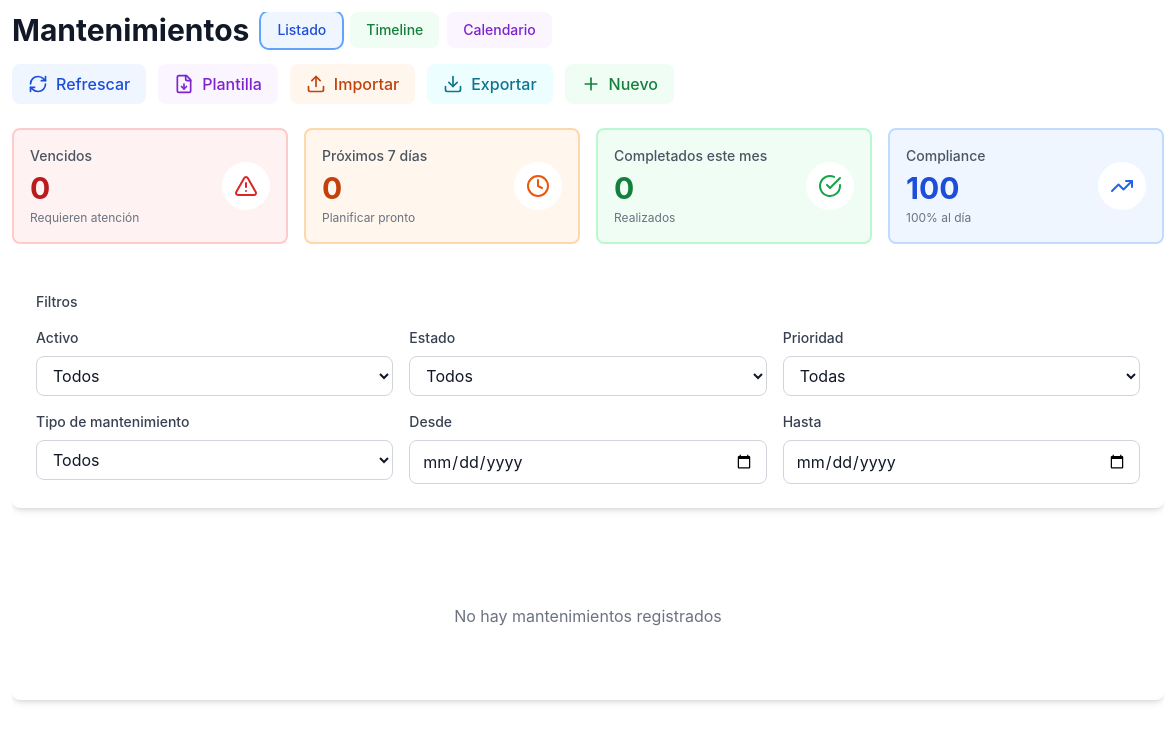
AssetMaintenancePage › switches to timeline view
The width and height of the screenshot is (1164, 732).
Click the button "Timeline". click: [395, 30]
box: [350,12,439,48]
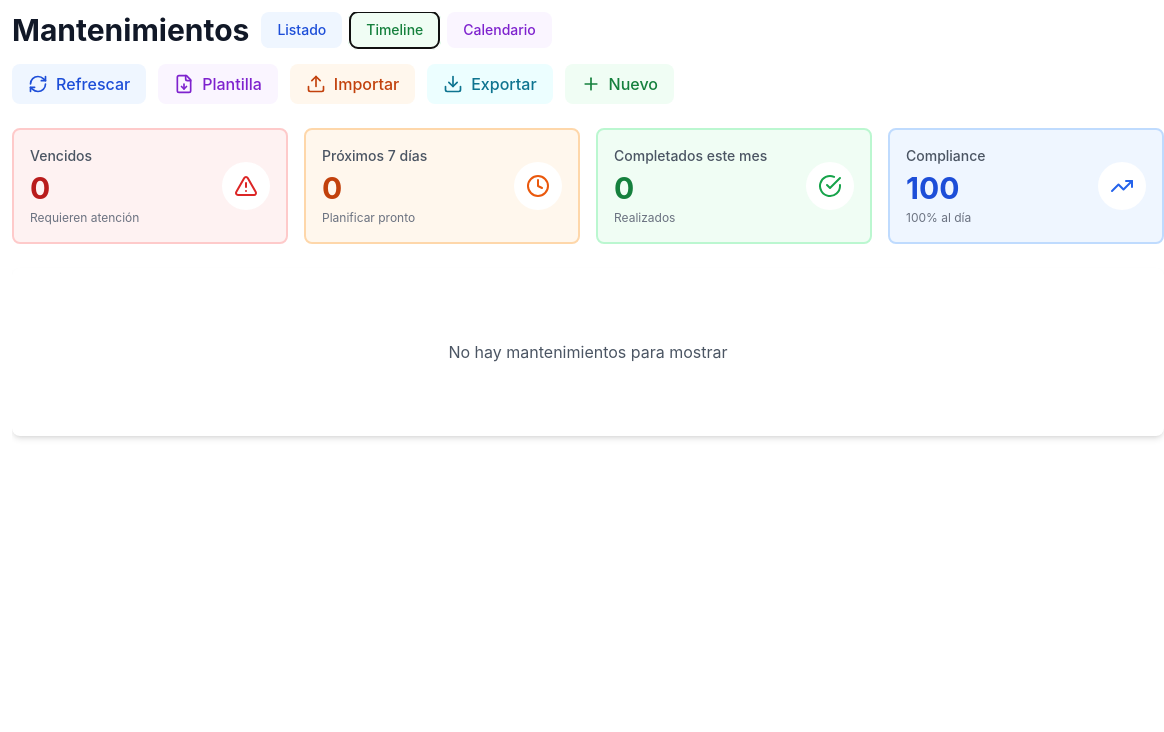
Check: the text "No hay mantenimientos para mostrar" is shown, box [448,342,728,362]
